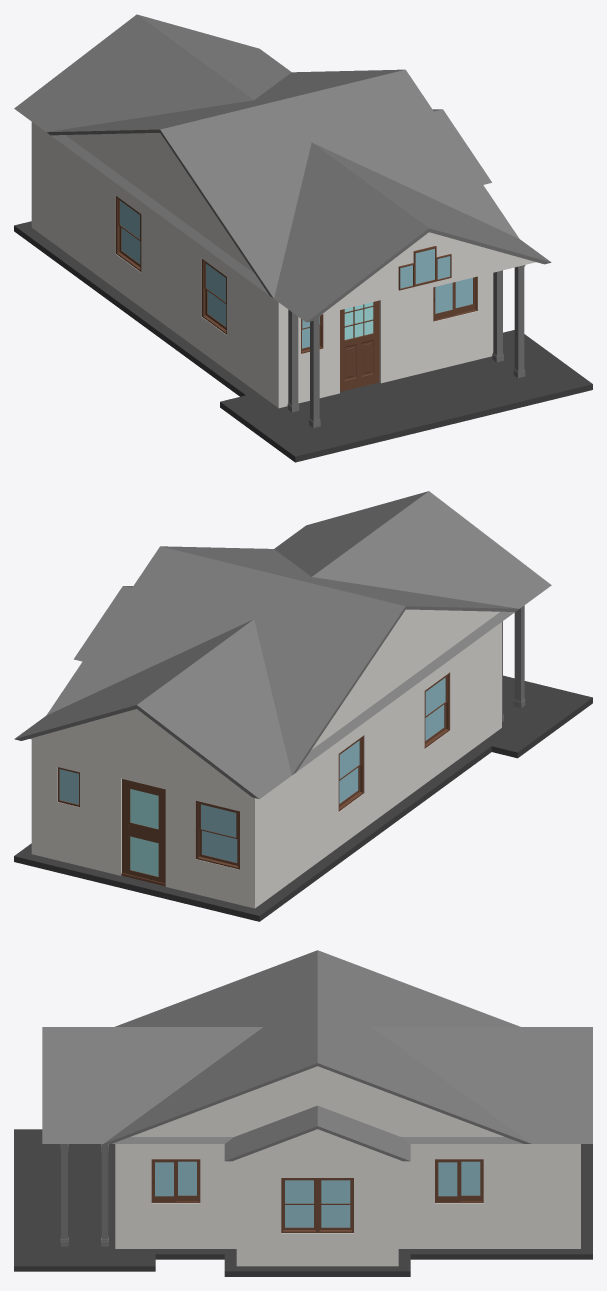
Rendered from task-11-x.obj.
3 views of the same model, one above another, from view 1: azimuth 30°, elevation 25°; view 2: azimuth 150°, elevation 25°; view 3: azimuth 270°, elevation 25° (orthographic). The views are drawn at different scales.
Parts seen in each view (by area): view 1: wall, roof_0, roof_1, ground_base, door_frame_0, pillar_2, pillar_3, pillar_0, window_glass_1, window_glass_7, window_glass_8, pillar_1 (+6 smaller); view 2: wall, roof_0, roof_1, ground_base, door_frame_1, door_glass_1, window_glass_6, pillar_3, window_glass_7, window_glass_8, window_frame_6, roof_2 (+3 smaller); view 3: wall, roof_0, roof_1, ground_base, roof_2, window_glass_9, window_glass_3, window_glass_4, window_glass_2, window_frame_3, window_frame_2, pillar_1 (+3 smaller).
Boxes of the visible parts, x1,y1,x2,y2 form: wall: (31,122,535,408); roof_0: (14,14,551,322); roof_1: (46,69,519,298); ground_base: (14,221,592,462); door_frame_0: (340,300,379,391); pillar_2: (513,265,525,378); pillar_3: (309,315,320,427); pillar_0: (287,309,299,412); window_glass_1: (435,277,472,313); window_glass_7: (120,200,140,263); window_glass_8: (206,263,226,326); pillar_1: (492,270,503,362); wall: (30,609,501,908); roof_0: (14,491,551,798); roof_1: (46,546,518,775); ground_base: (14,675,592,921); door_frame_1: (121,779,165,886); door_glass_1: (130,789,158,876); window_glass_6: (201,804,237,862); pillar_3: (513,605,525,707); window_glass_7: (339,740,359,803); window_glass_8: (425,677,445,740); window_frame_6: (195,801,239,869); roof_2: (73,586,132,661); wall: (115,1066,580,1266); roof_0: (42,1027,592,1143); roof_1: (103,950,531,1143); ground_base: (14,1129,592,1276); roof_2: (224,1105,410,1161); window_glass_9: (321,1180,350,1227); window_glass_3: (438,1161,480,1196); window_glass_4: (285,1180,313,1227); window_glass_2: (155,1161,196,1196); window_frame_3: (435,1159,483,1202); window_frame_2: (151,1159,200,1202); pillar_1: (101,1144,108,1246).
Size of the model in its own units: 8.3 by 5.36 by 14.3.
